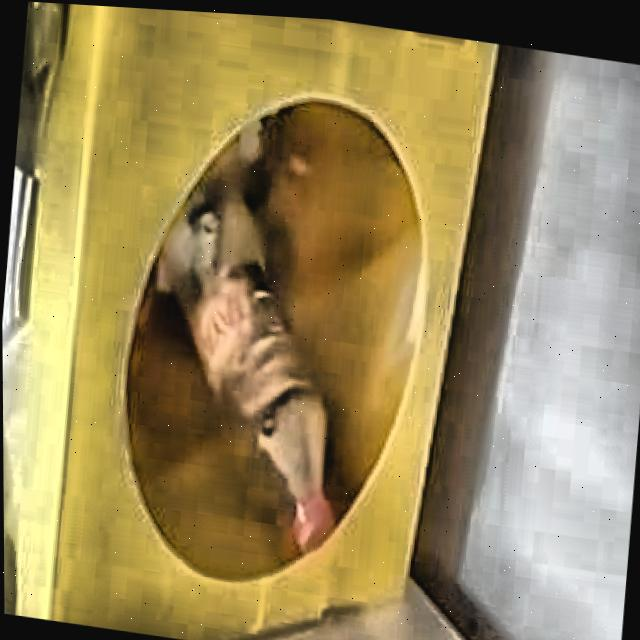plastic: (183, 201, 329, 549)
